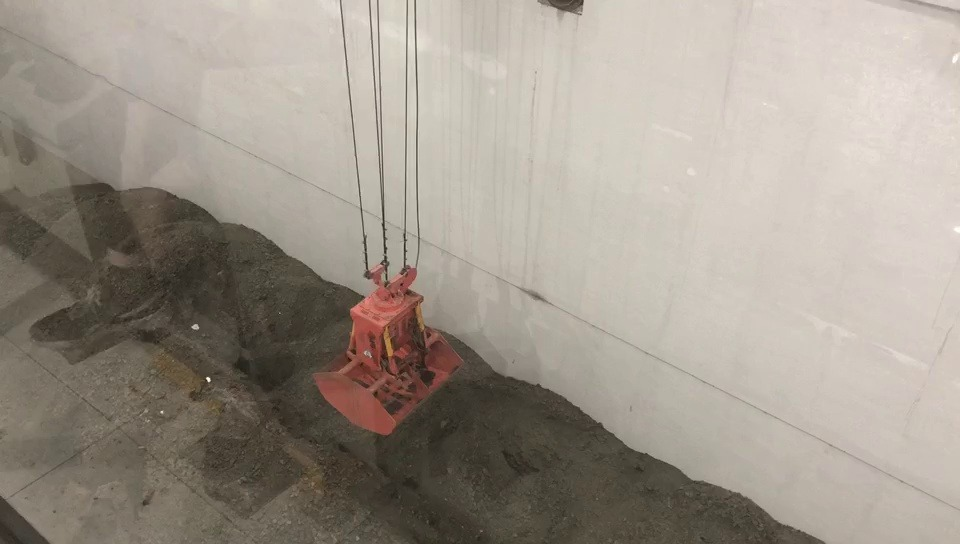grab: (311, 255, 464, 436)
